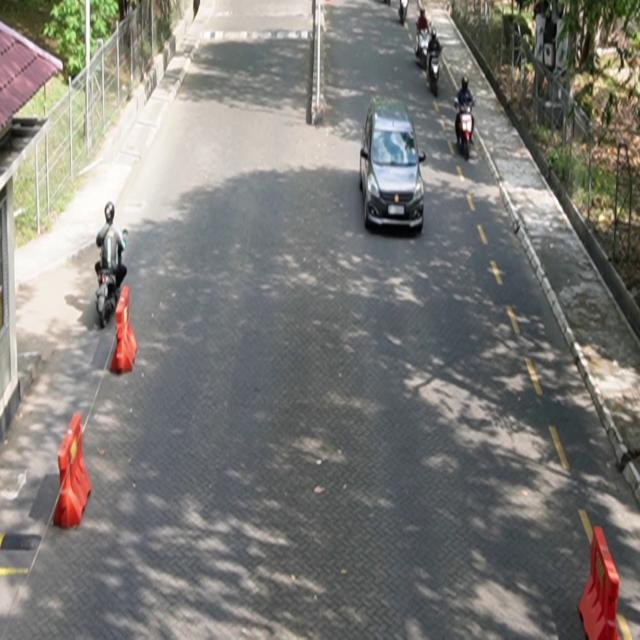car: (360, 97, 427, 235)
